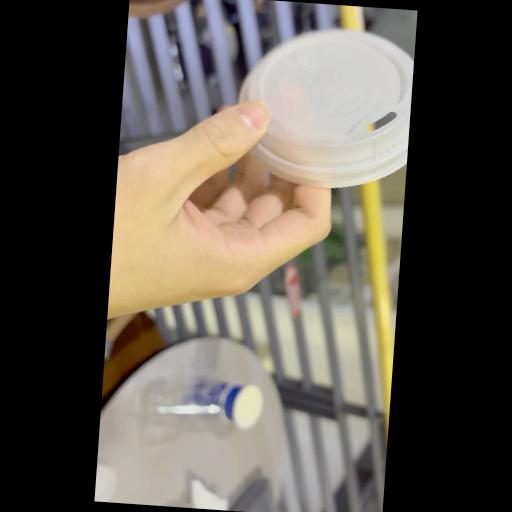lp_cup_lids: (230, 22, 416, 195)
